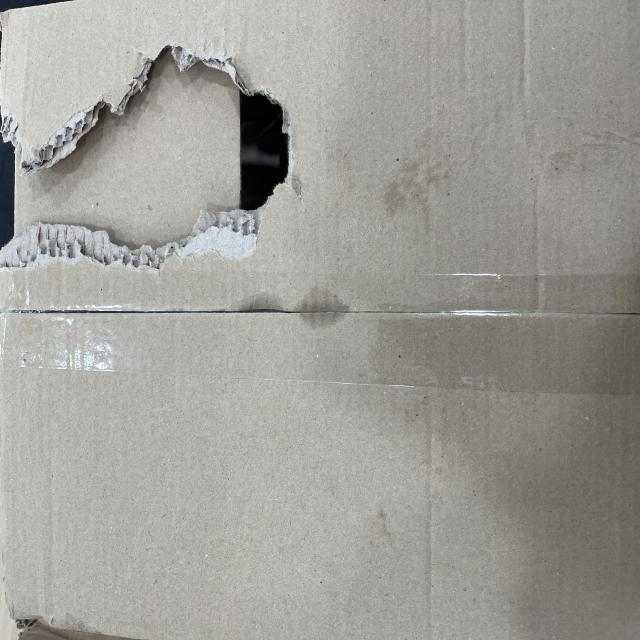damaged: (348, 409, 411, 563)
